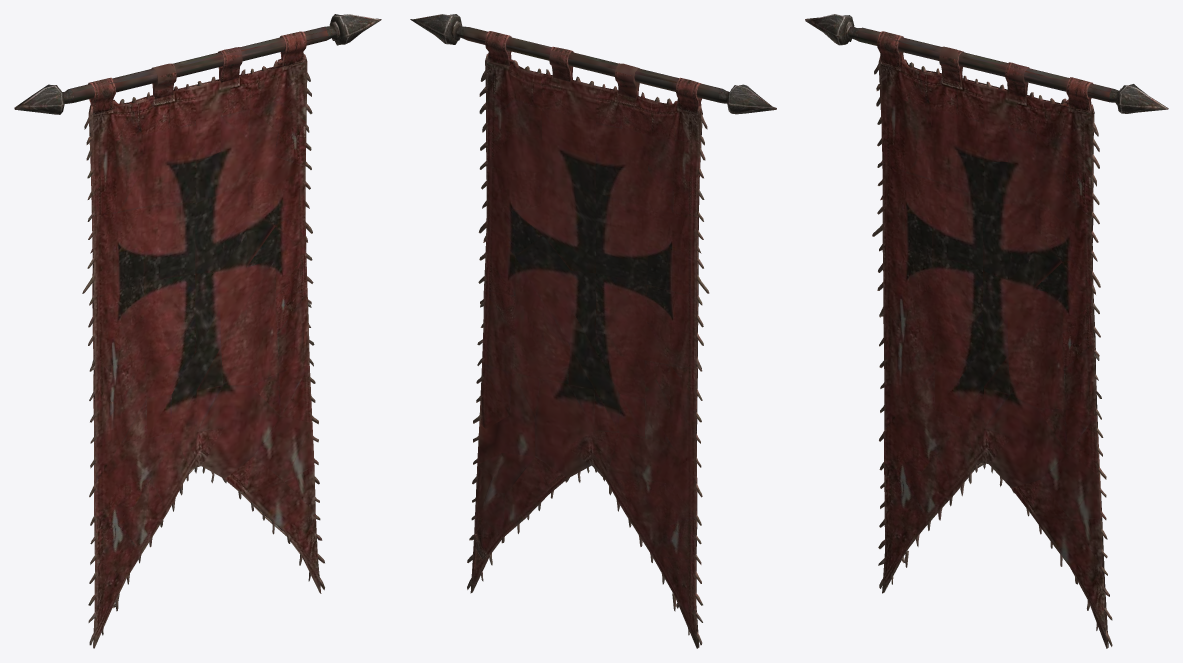
The model's file is d_banner_patternB_red.glb.
3 renders of one model, left to right at view 1: azimuth 30°, elevation 25°; view 2: azimuth 150°, elevation 25°; view 3: azimuth 330°, elevation 25°, orthographic.
Visible parts, largest first — view 1: d_banner_patternB_red; view 2: d_banner_patternB_red; view 3: d_banner_patternB_red.
Boxes of the visible parts, x1,y1,x2,y2 form: d_banner_patternB_red: [14, 14, 381, 648]; d_banner_patternB_red: [410, 14, 776, 648]; d_banner_patternB_red: [805, 14, 1168, 648].
Bounding box in the file's own units: 2.15 × 3.2 × 0.1615.
Materials: 1 (1 with a texture image).
